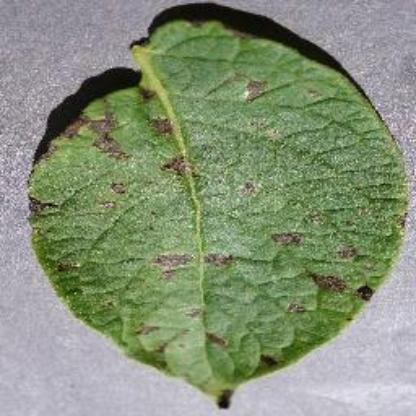Early-Blight: (25, 11, 406, 409)
